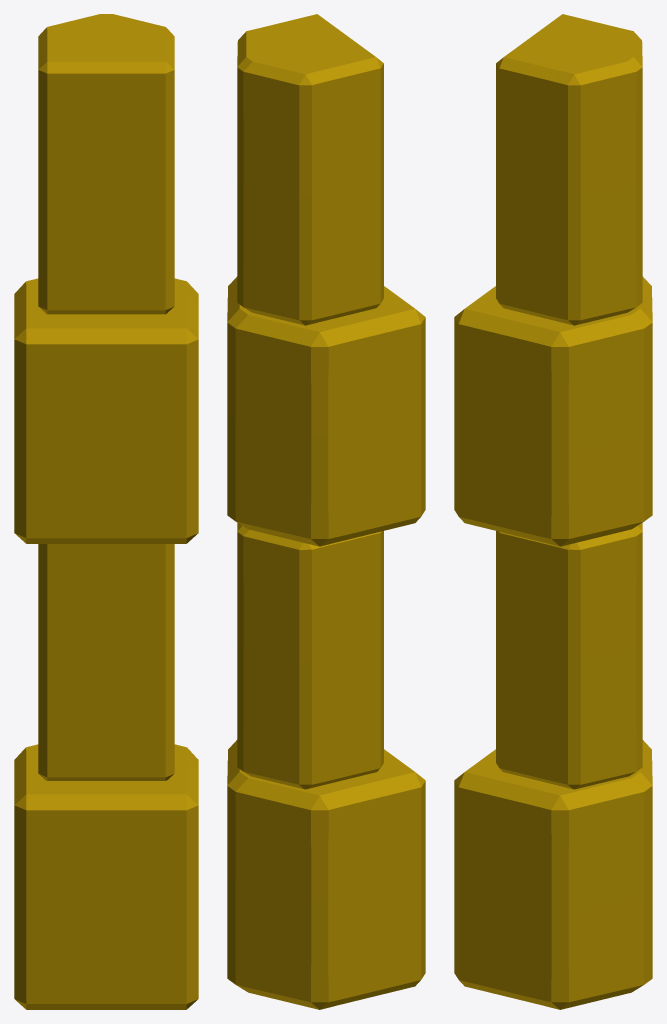
File: Gold Trim Siding Resized.fbx
3 views of the same model, side by side, from view 1: azimuth 30°, elevation 25°; view 2: azimuth 150°, elevation 25°; view 3: azimuth 270°, elevation 25° (orthographic).
Visible parts, largest first — view 1: polySurface2; view 2: polySurface2; view 3: polySurface2.
Part boxes in pixels (x1,y1,x2,y2): polySurface2: (14, 14, 198, 1009); polySurface2: (227, 14, 425, 1009); polySurface2: (454, 14, 652, 1009).
Bounding box in the file's own units: 24.44 × 118 × 22.83.
